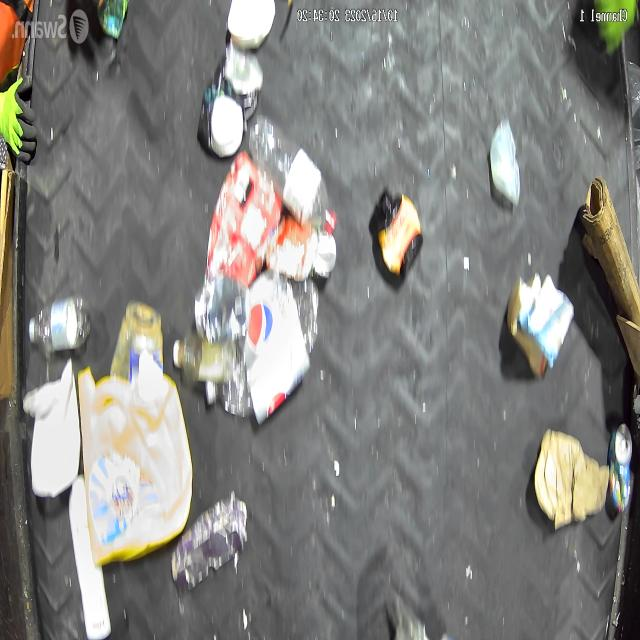can: (170, 480, 252, 592), (193, 43, 266, 160), (608, 418, 635, 519)
milk_jug: (20, 351, 81, 518)
non_white_jug: (77, 346, 195, 577)
plastic_bottle: (201, 263, 321, 431), (250, 116, 336, 244), (26, 286, 95, 361), (170, 324, 230, 390)
